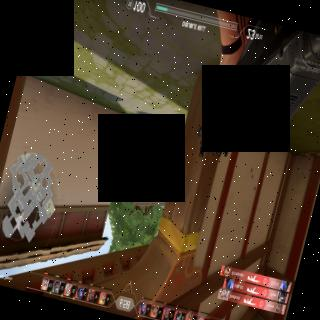ENEMY-BODY: (161, 121, 177, 165)
ENEMY-HEAD: (162, 156, 166, 164)
